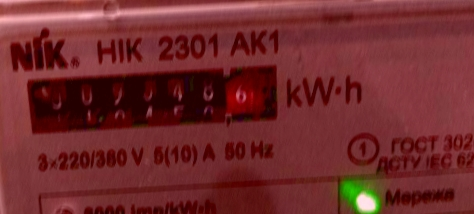0: (46, 82, 60, 109), (76, 81, 92, 104)
3: (137, 76, 152, 103)
4: (167, 74, 182, 102)
6: (229, 77, 248, 105)
8: (197, 73, 213, 102)
9: (106, 79, 122, 106)
screen: (14, 57, 287, 142)
